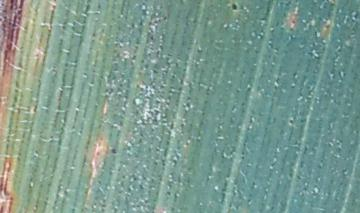tarspot: (231, 3, 238, 11), (110, 148, 118, 155)
